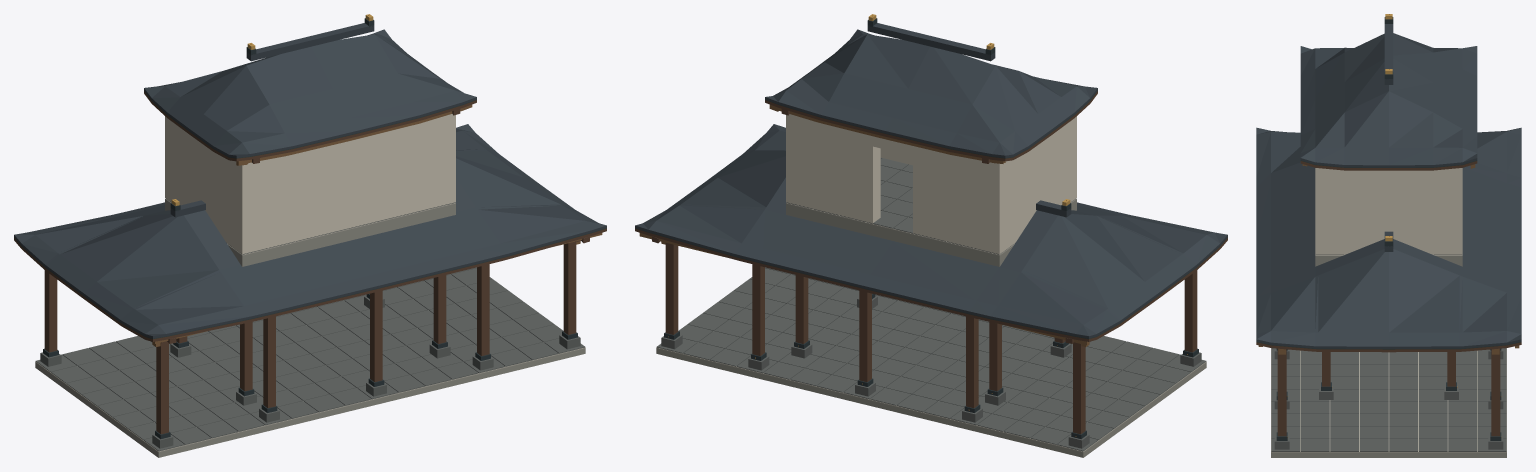
File: visual-far.glb
3 renders of one model, left to right at view 1: azimuth 30°, elevation 25°; view 2: azimuth 150°, elevation 25°; view 3: azimuth 270°, elevation 25°, orthographic. The views are drawn at different scales.
Visible parts, largest first — view 1: 层间真实穿孔长脊屋面, 石铺面与混凝土楼板 (×9), 上层屋面与实际贴面檐木, 穿顶上层0.4m实体墙体, 木柱、石础与金属抱箍 (×8), 穿顶上层实际承台; view 2: 石铺面与混凝土楼板 (×9), 层间真实穿孔长脊屋面, 上层屋面与实际贴面檐木, 穿顶上层0.4m实体墙体, 木柱、石础与金属抱箍 (×8), 穿顶上层实际承台; view 3: 层间真实穿孔长脊屋面, 石铺面与混凝土楼板 (×5), 上层屋面与实际贴面檐木, 穿顶上层0.4m实体墙体, 木柱、石础与金属抱箍 (×4).
Part boxes in pixels (x1=…): 层间真实穿孔长脊屋面: x1=14, y1=124, x2=606, y2=346; 石铺面与混凝土楼板 (×9): x1=35, y1=198, x2=585, y2=457; 上层屋面与实际贴面檐木: x1=144, y1=14, x2=476, y2=165; 穿顶上层0.4m实体墙体: x1=165, y1=114, x2=455, y2=254; 木柱、石础与金属抱箍 (×8): x1=40, y1=241, x2=580, y2=448; 穿顶上层实际承台: x1=165, y1=205, x2=455, y2=266; 石铺面与混凝土楼板 (×9): x1=656, y1=157, x2=1206, y2=457; 层间真实穿孔长脊屋面: x1=635, y1=124, x2=1227, y2=346; 上层屋面与实际贴面檐木: x1=765, y1=14, x2=1097, y2=163; 穿顶上层0.4m实体墙体: x1=786, y1=114, x2=1076, y2=254; 木柱、石础与金属抱箍 (×8): x1=661, y1=243, x2=1201, y2=448; 穿顶上层实际承台: x1=786, y1=205, x2=1076, y2=266; 层间真实穿孔长脊屋面: x1=1256, y1=127, x2=1521, y2=354; 石铺面与混凝土楼板 (×5): x1=1271, y1=254, x2=1506, y2=457; 上层屋面与实际贴面檐木: x1=1300, y1=14, x2=1477, y2=170; 穿顶上层0.4m实体墙体: x1=1315, y1=168, x2=1462, y2=254; 木柱、石础与金属抱箍 (×4): x1=1274, y1=349, x2=1503, y2=449.
Size of the model in its own units: 13.6 by 9.48 by 7.2.
Materials: 11 (11 with a texture image).
